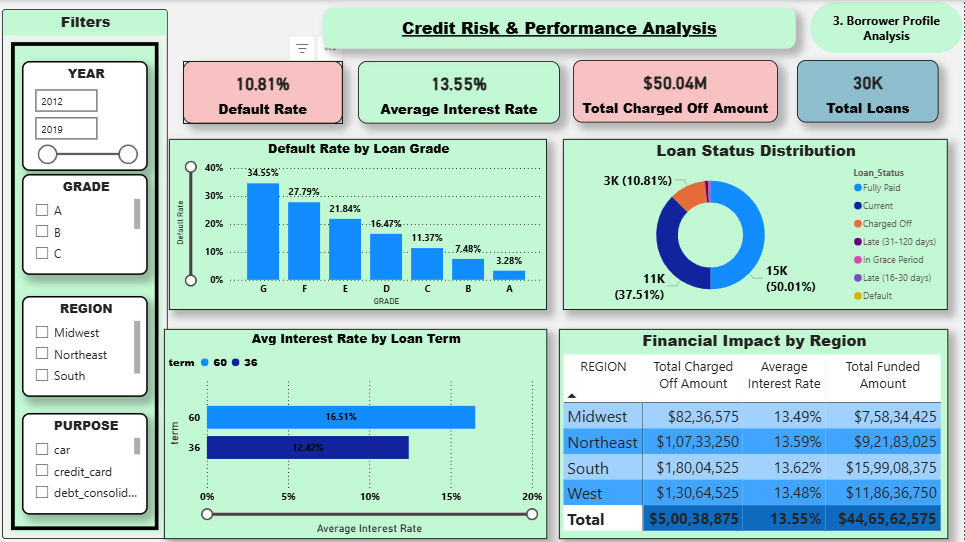

The page's visual inventory and layout, read from the dashboard file:
{"tool":"powerbi","page":{"name":"2. Risk & Performance Deep Dive","canvas":[1280,720],"ordinal":2},"visuals":[{"type":"shape","title":"Filters","box":[2.9,11.4,220,704.3],"z":0},{"type":"slicer","title":"YEAR","fields":{"Values":["loan_cleaned.Issue_year"]},"box":[29.2,80.6,166.7,145.8],"z":1000},{"type":"card","fields":{"Values":["Dax.Total Loans"]},"box":[1058.3,80,188.3,83.3],"z":2000},{"type":"card","fields":{"Values":["Dax.Default Rate"]},"box":[243.3,81.7,211.7,83.3],"z":3000},{"type":"card","fields":{"Values":["Dax.Average Interest Rate"]},"box":[475,81.7,268.3,83.3],"z":4000},{"type":"pivotTable","title":"Financial Impact by Region","fields":{"Values":["Dax.Total Charged Off Amount","Dax.Average Interest Rate","Dax.Total Funded Amount"],"Rows":["state_region.REGION "]},"box":[742.9,437.1,517.1,278.6],"z":5000},{"type":"barChart","title":"Avg Interest Rate by Loan Term","fields":{"Y":["Dax.Average Interest Rate"],"Category":["loan_cleaned.term"],"Series":["loan_cleaned.term"]},"box":[217.5,437.5,508.8,278.8],"z":6000},{"type":"slicer","title":"GRADE","fields":{"Values":["loan_cleaned.GRADE"]},"box":[28.9,231.2,166.5,133.5],"z":7000},{"type":"slicer","title":"REGION","fields":{"Values":["state_region.REGION "]},"box":[28.9,393.6,166.5,133.5],"z":8000},{"type":"slicer","title":"PURPOSE","fields":{"Values":["loan_purposes.purpose"]},"box":[29.2,548.6,166.7,134.7],"z":9000},{"type":"textbox","box":[429.2,11.1,627.8,54.2],"z":10000},{"type":"card","fields":{"Values":["Dax.Total Charged Off Amount"]},"box":[761.7,80,271.7,83.3],"z":11000},{"type":"clusteredColumnChart","title":"Default Rate & Avg Interest rate by Loan Grade","fields":{"Category":["loan_cleaned.GRADE"],"Y":["Dax.Default Rate","Dax.Average Interest Rate"]},"box":[225.6,185.2,501.9,227.1],"z":12000},{"type":"donutChart","title":"Loan Status Distribution","fields":{"Category":["loan_cleaned.Loan_Status"],"Y":["Dax.Total Loans"]},"box":[748.4,185.2,510.9,227.1],"z":13000},{"type":"pageNavigator","box":[1076.6,2.9,203.4,68.3],"z":14000}]}

Visuals, with their boxes in screenshot pixels (x1, y1, x2, y2), scaled from the page's 1280x720 canvas onto the 965x542 screenshot:
"Filters" shape: (x1=2, y1=9, x2=168, y2=539)
"YEAR" slicer: (x1=22, y1=61, x2=148, y2=170)
card - Dax.Total Loans: (x1=798, y1=60, x2=940, y2=123)
card - Dax.Default Rate: (x1=183, y1=62, x2=343, y2=124)
card - Dax.Average Interest Rate: (x1=358, y1=62, x2=560, y2=124)
"Financial Impact by Region" pivotTable: (x1=560, y1=329, x2=950, y2=539)
"Avg Interest Rate by Loan Term" barChart: (x1=164, y1=329, x2=548, y2=539)
"GRADE" slicer: (x1=22, y1=174, x2=147, y2=275)
"REGION" slicer: (x1=22, y1=296, x2=147, y2=397)
"PURPOSE" slicer: (x1=22, y1=413, x2=148, y2=514)
textbox: (x1=324, y1=8, x2=797, y2=49)
card - Dax.Total Charged Off Amount: (x1=574, y1=60, x2=779, y2=123)
"Default Rate & Avg Interest rate by Loan Grade" clusteredColumnChart: (x1=170, y1=139, x2=548, y2=310)
"Loan Status Distribution" donutChart: (x1=564, y1=139, x2=949, y2=310)
pageNavigator: (x1=812, y1=2, x2=964, y2=54)
